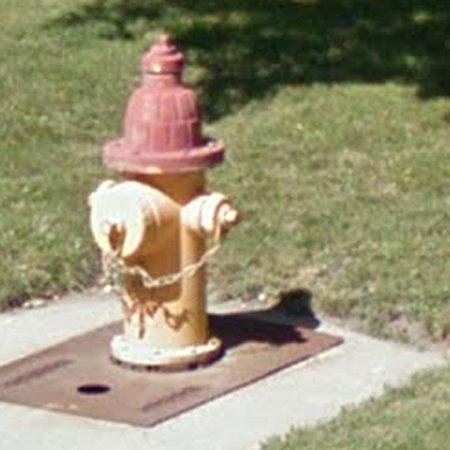a fire hydrant: (89, 34, 241, 370)
